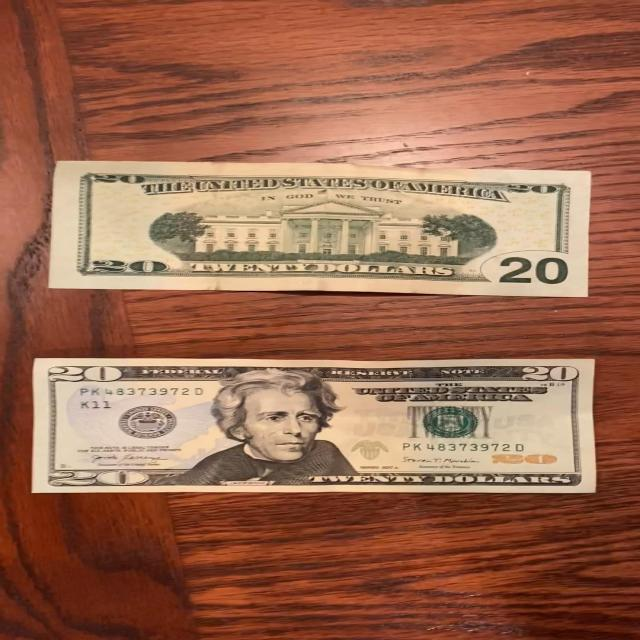20-Back: (41, 157, 593, 301)
20-Front: (29, 355, 602, 496)
